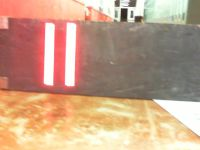switch: (44, 22, 54, 87), (66, 22, 76, 87)
